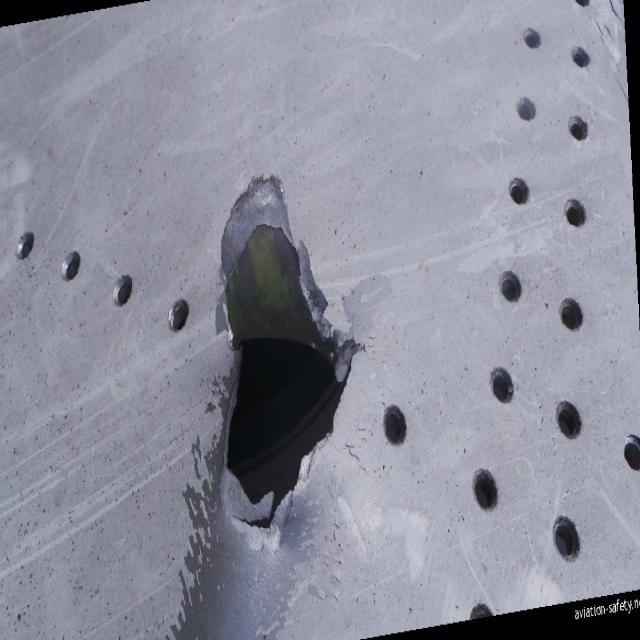crack: (212, 171, 362, 539)
